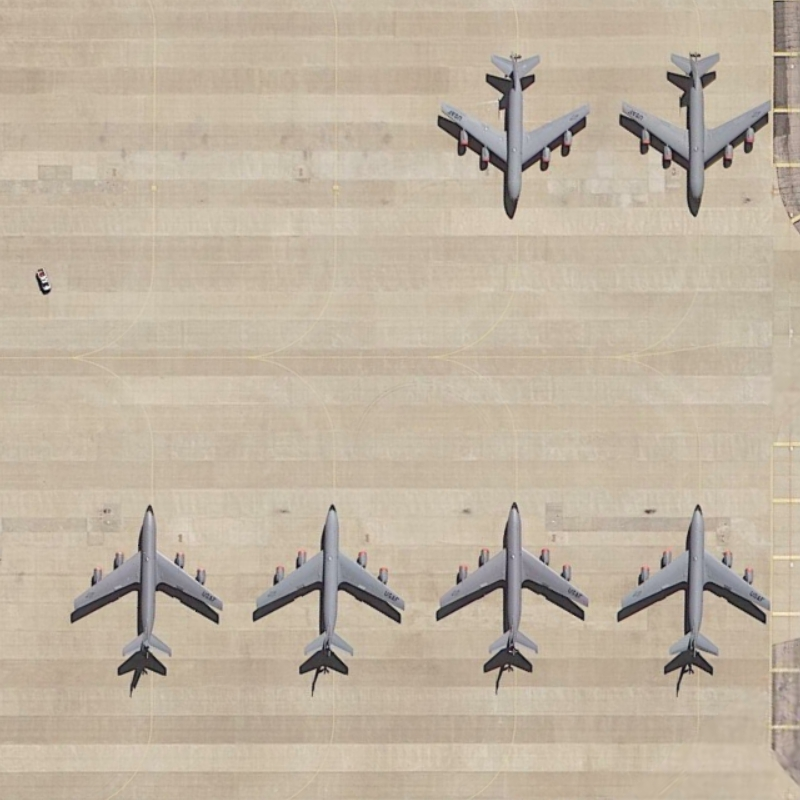A14: (432, 38, 591, 222), (612, 494, 773, 673), (64, 495, 232, 664), (610, 49, 774, 215), (248, 501, 410, 669), (429, 497, 593, 660)
